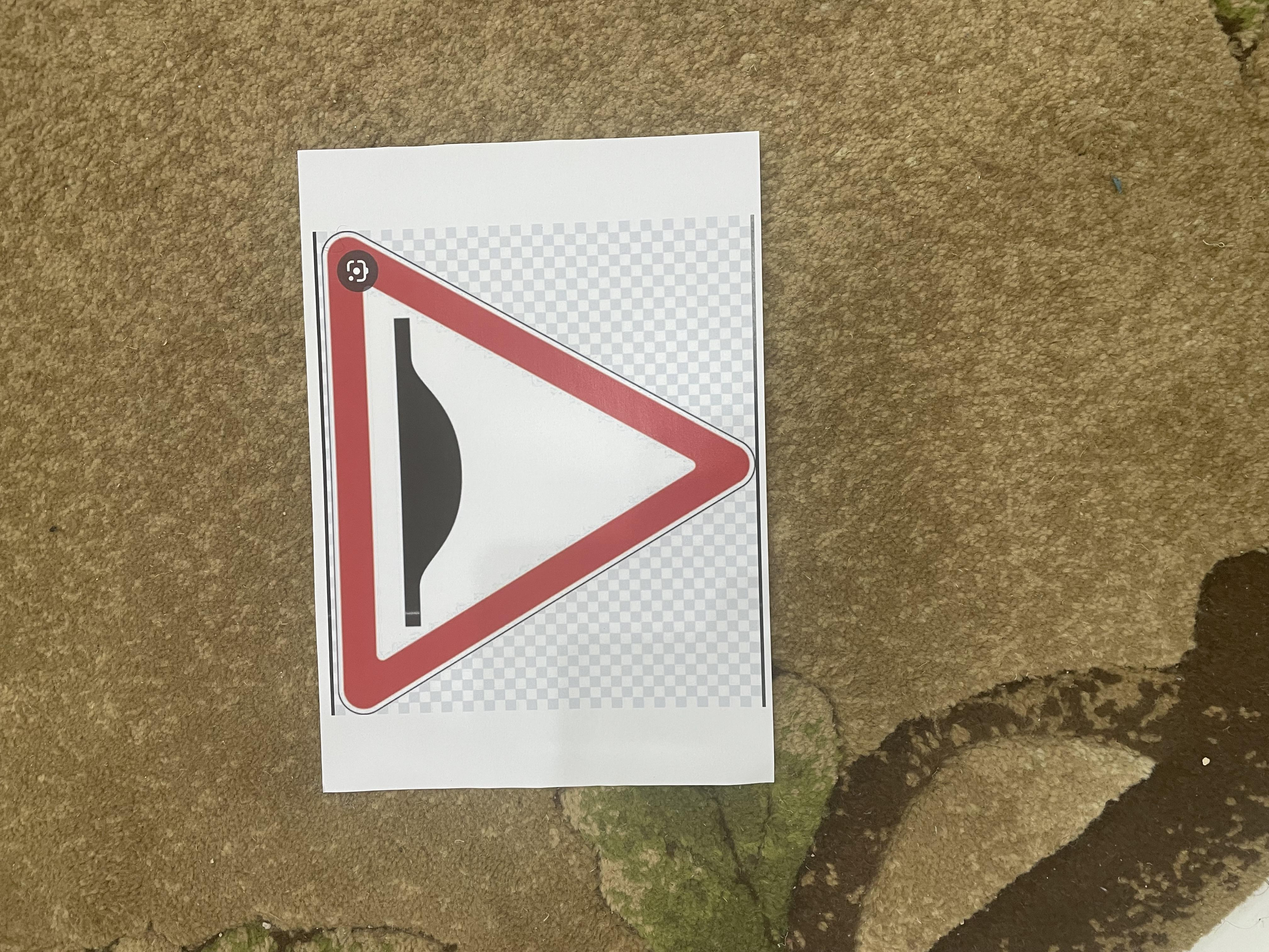Hump: (311, 381, 962, 710)
